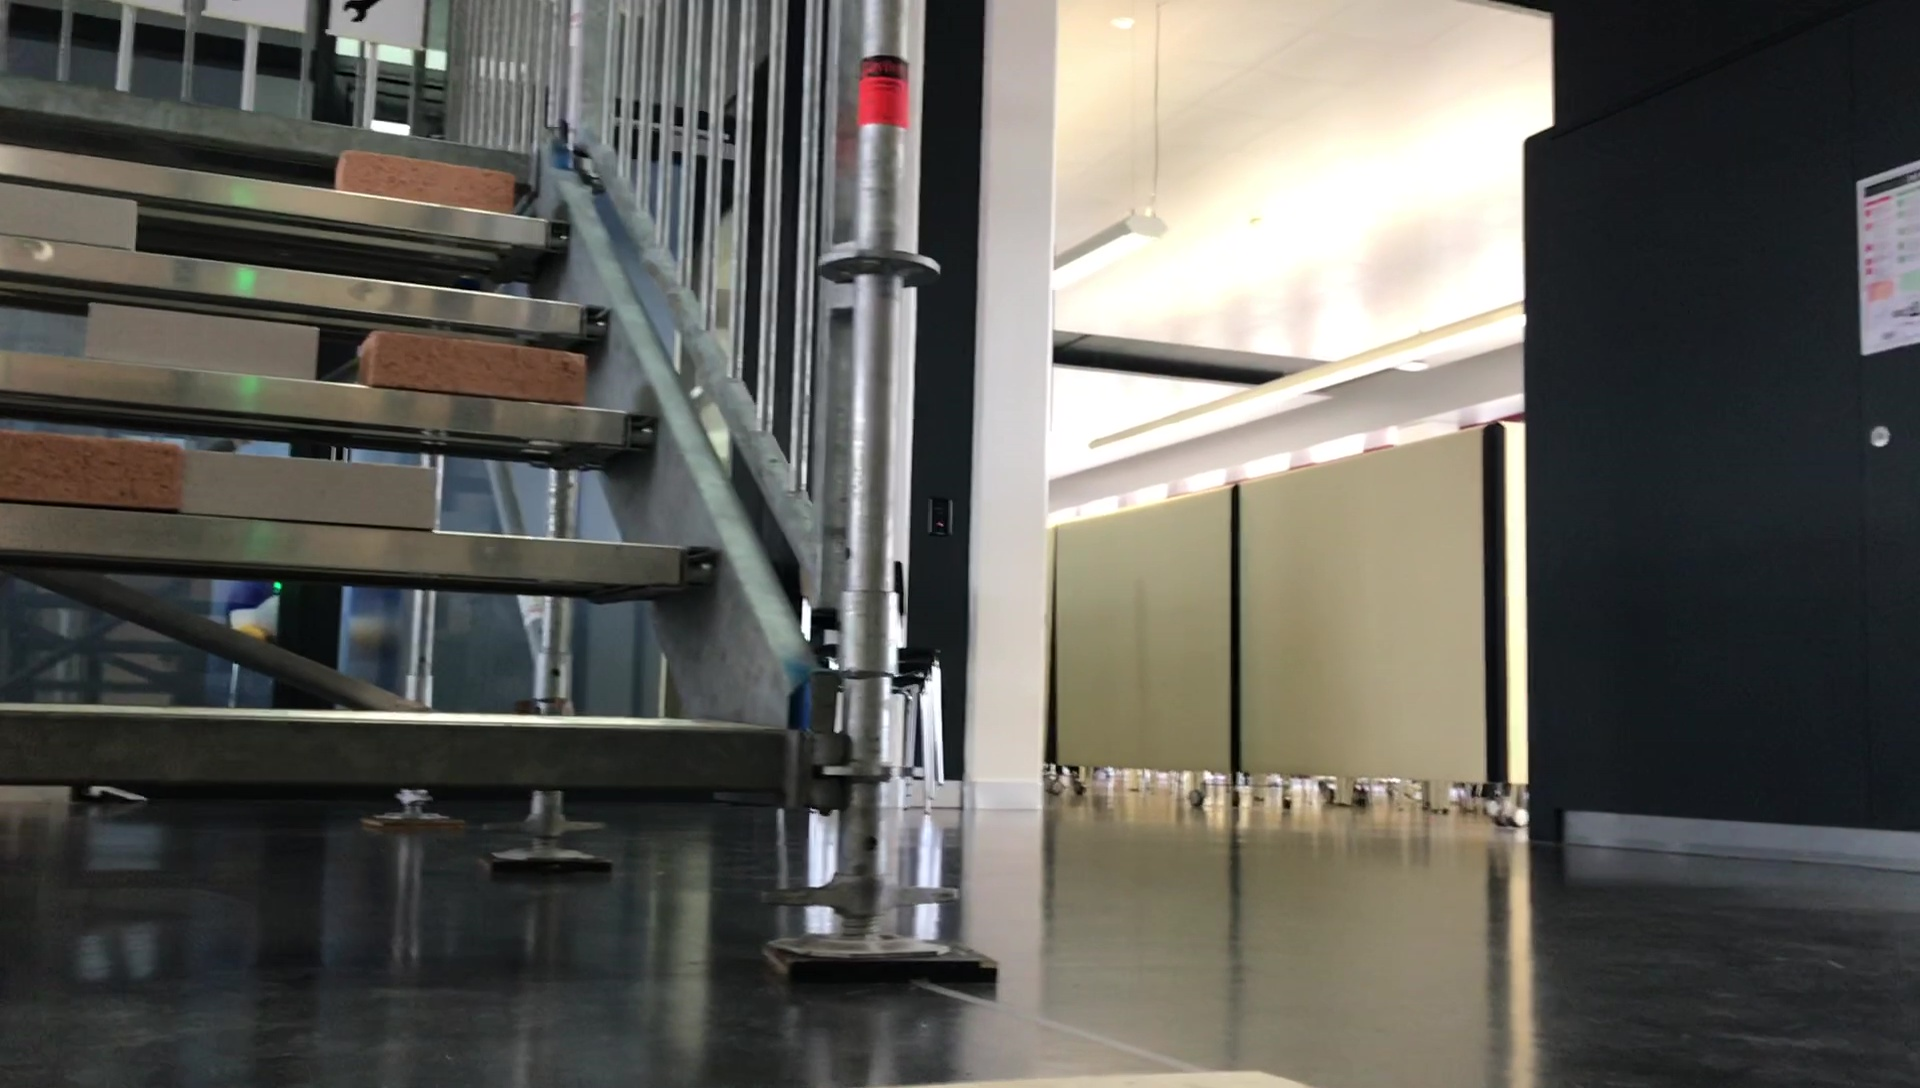brick: (175, 452, 444, 521), (368, 328, 599, 400), (76, 307, 323, 372), (7, 429, 175, 510), (326, 138, 516, 200), (0, 189, 127, 236)
edge: (0, 710, 803, 775), (0, 518, 720, 570), (0, 365, 661, 417), (0, 161, 542, 208), (0, 258, 595, 295)
steps: (0, 78, 844, 797)
